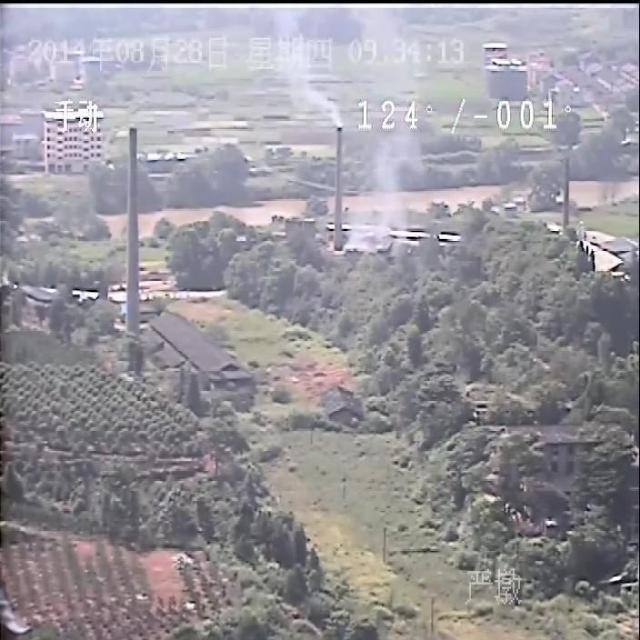smoke: (348, 8, 426, 249), (274, 10, 342, 127)
